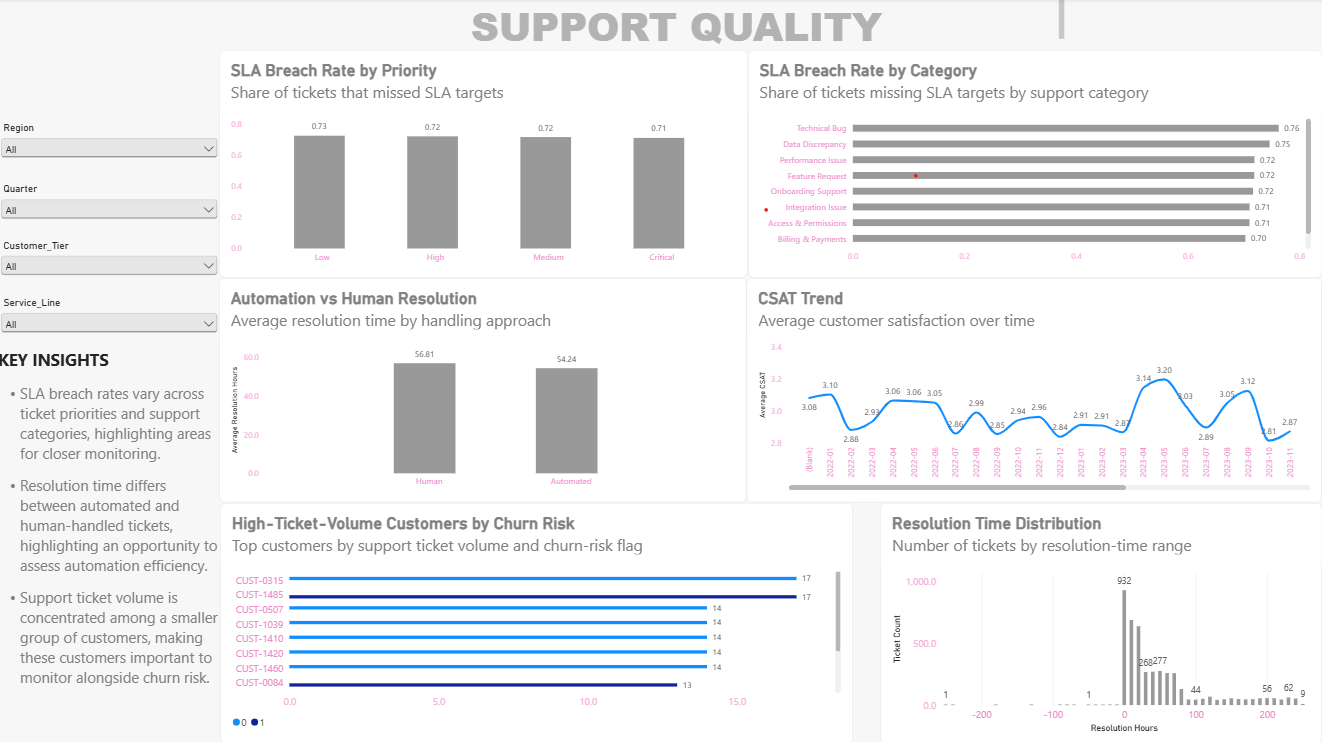

Layout of this report page (visuals, bound fields, positions):
{"tool":"powerbi","page":{"name":"SUPPORT QUALITY","canvas":[1920,1080],"ordinal":2},"visuals":[{"type":"clusteredColumnChart","title":"SLA Breach Rate by Priority","fields":{"Category":["Support_Tickets.Priority"],"Y":["Measure.SLA Breach Rate"]},"box":[320.3,76.3,764.4,328.8],"z":0},{"type":"clusteredBarChart","title":"SLA Breach Rate by Category","fields":{"Category":["Support_Tickets.Category"],"Y":["Measure.SLA Breach Rate"]},"box":[1086.2,76.2,832.5,328.8],"z":1000},{"type":"clusteredColumnChart","title":"Automation vs Human Resolution","fields":{"Category":["Support_Tickets.Resolution Type"],"Y":["Measure.Average Resolution Hours"]},"box":[320.3,405.1,763.5,325],"z":2000},{"type":"lineChart","title":"CSAT Trend","fields":{"Y":["Measure.Average CSAT"],"Category":["DateTable.Year Month"]},"box":[1083.8,405,833.3,324.7],"z":3000},{"type":"clusteredBarChart","title":"High-Ticket-Volume Customers by Churn Risk","fields":{"Category":["Customers.Customer_ID"],"Y":["Measure.Ticket Volume"],"Series":["Customers.Churn_Risk_Flag"]},"box":[322.1,730.9,915.3,349.2],"z":4000},{"type":"slicer","fields":{"Values":["Sales_Pipeline.Region"]},"box":[0,179.5,322.7,55.7],"z":5000},{"type":"slicer","fields":{"Values":["DateTable.Quarter"]},"box":[0,268.2,322.7,54.5],"z":6000},{"type":"slicer","fields":{"Values":["Customers.Customer_Tier"]},"box":[0,350,322.7,54.5],"z":7000},{"type":"slicer","fields":{"Values":["SaaS_Financials.Service_Line"]},"box":[0,431.8,322.7,53.4],"z":8000},{"type":"textbox","box":[406,0,1138,76],"z":9000},{"type":"textbox","box":[0,505.9,321.6,562.7],"z":10000},{"type":"clusteredColumnChart","title":"Resolution Time Distribution","fields":{"Category":["Support_Tickets.Resolution Hours Bin"],"Y":["CountNonNull(Support_Tickets.Resolution_Hours)"]},"box":[1278,730.5,640.7,349.2],"z":11000}]}

Visuals, with their boxes in screenshot pixels (x1, y1, x2, y2), scaled from the page's 1920x1080 canvas onto the 1322x742 screenshot:
"SLA Breach Rate by Priority" clusteredColumnChart: 221 52 747 278
"SLA Breach Rate by Category" clusteredBarChart: 748 52 1321 278
"Automation vs Human Resolution" clusteredColumnChart: 221 278 746 502
"CSAT Trend" lineChart: 746 278 1320 501
"High-Ticket-Volume Customers by Churn Risk" clusteredBarChart: 222 502 852 741
slicer - Sales_Pipeline.Region: 0 123 222 162
slicer - DateTable.Quarter: 0 184 222 222
slicer - Customers.Customer_Tier: 0 240 222 278
slicer - SaaS_Financials.Service_Line: 0 297 222 333
textbox: 280 0 1063 52
textbox: 0 348 221 734
"Resolution Time Distribution" clusteredColumnChart: 880 502 1321 741
